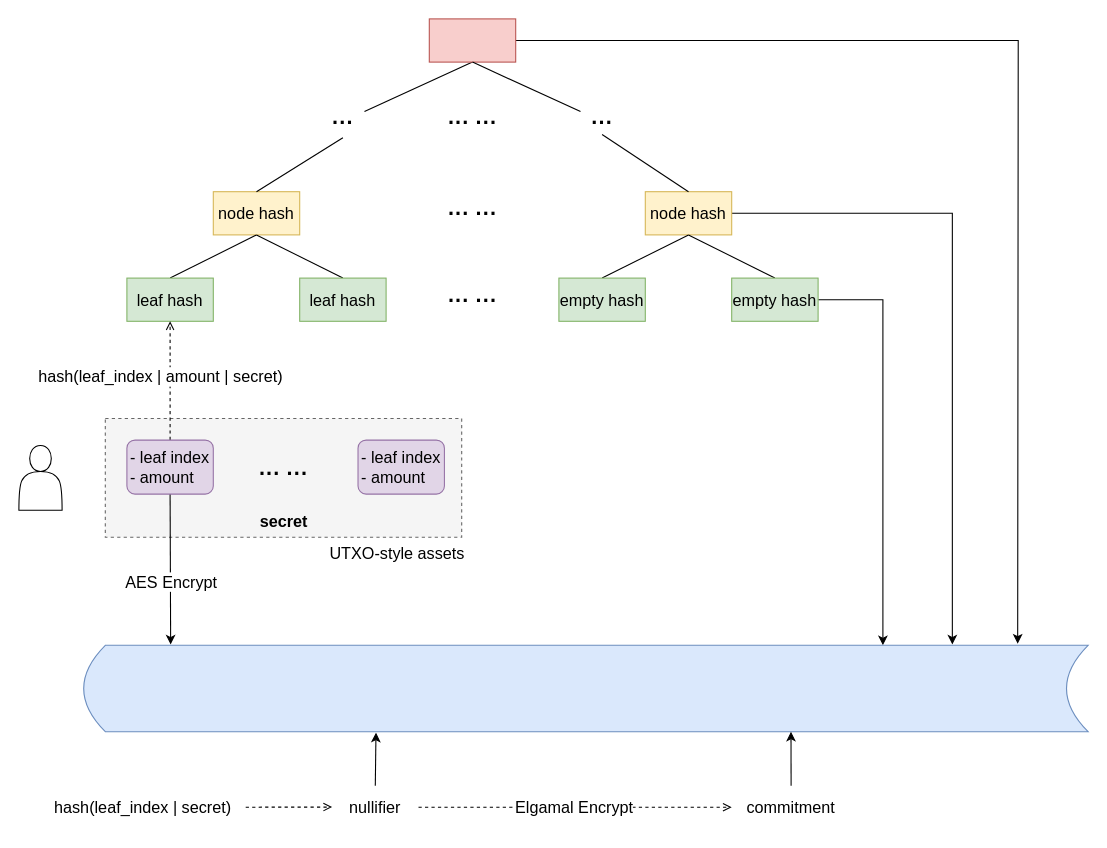
Image size: 1107x848. Some labels were removed from this diagram. Each missing label, with the box of its shape:
root hash: (428, 18, 516, 62)
Solana Blockchain: (83, 644, 1088, 732)
